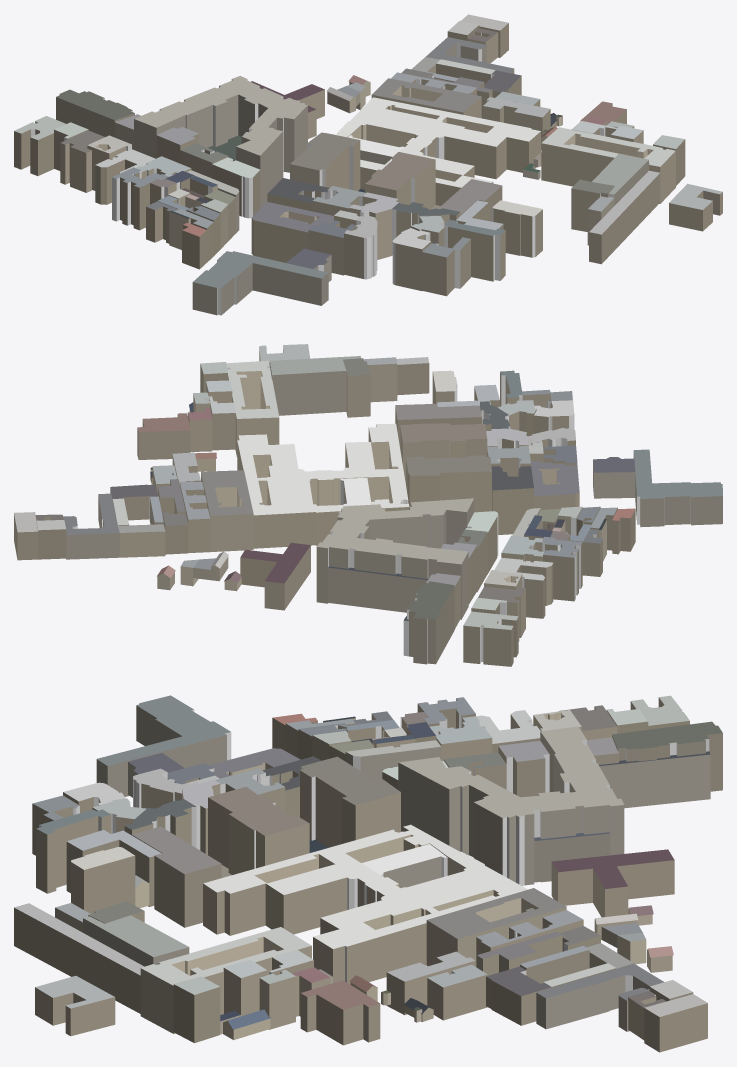
The picture shows the model from 3 angles, top to bottom: view 1: azimuth 30°, elevation 25°; view 2: azimuth 150°, elevation 25°; view 3: azimuth 270°, elevation 25°; orthographic projection. The views are drawn at different scales.
Visible parts, largest first — view 1: tuile; view 2: tuile; view 3: tuile.
Part boxes in pixels (left/top/right/bottom): tuile: left=14, top=14, right=722, bottom=315; tuile: left=14, top=344, right=722, bottom=666; tuile: left=14, top=695, right=722, bottom=1052.
Bounding box in the file's own units: 280 × 36.44 × 263.
